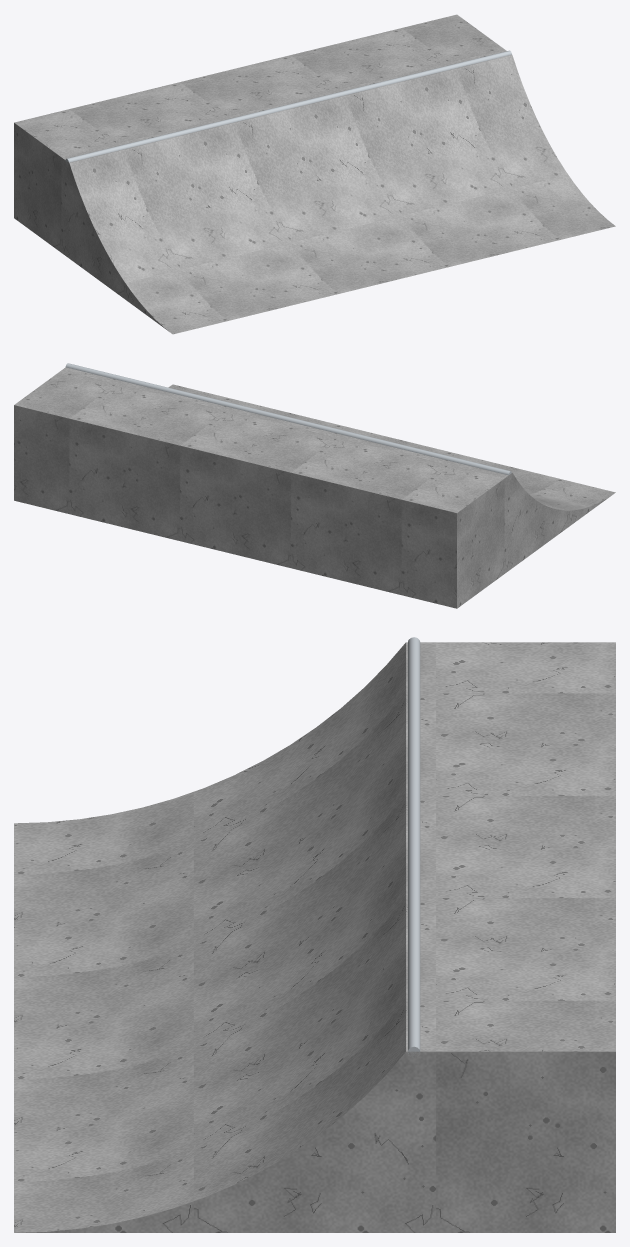
File: quarterpipe.glb
The picture shows the model from 3 angles, top to bottom: view 1: azimuth 30°, elevation 25°; view 2: azimuth 150°, elevation 25°; view 3: azimuth 270°, elevation 25°; orthographic projection. The views are drawn at different scales.
Parts seen in each view (by area): view 1: QuarterPipe; view 2: QuarterPipe; view 3: QuarterPipe.
Boxes of the visible parts, left/top/right/bottom form: QuarterPipe: left=14, top=14, right=615, bottom=334; QuarterPipe: left=14, top=363, right=615, bottom=608; QuarterPipe: left=14, top=637, right=615, bottom=1232.
Size of the model in its own units: 6 by 1.27 by 3.73.
2 materials, 1 textured.
